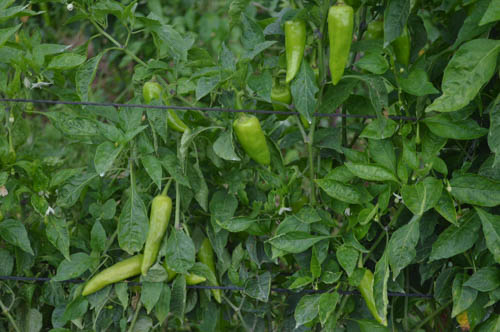ChiliPepper: (130, 189, 176, 279), (74, 250, 150, 301), (135, 81, 192, 140), (232, 111, 275, 171), (354, 265, 392, 329), (193, 235, 226, 306), (278, 13, 308, 91), (325, 3, 352, 87), (263, 76, 298, 119), (392, 24, 417, 65), (362, 17, 388, 47)
